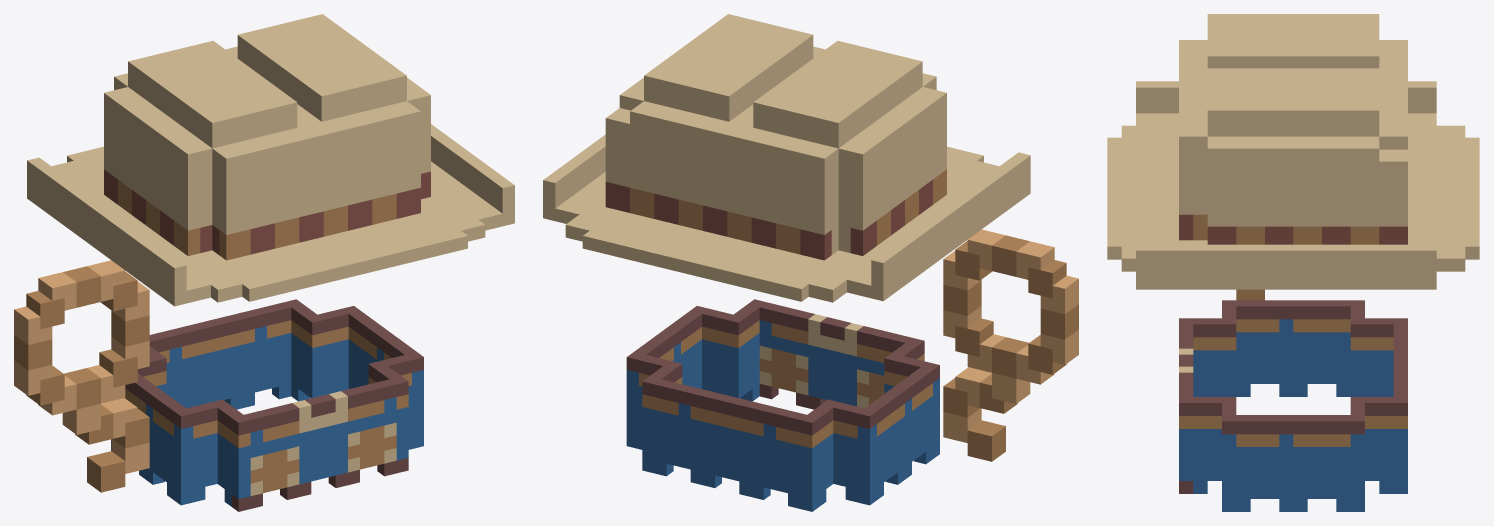
File: 64- wraangler.fbx
3 views of the same model, side by side, from view 1: azimuth 30°, elevation 25°; view 2: azimuth 150°, elevation 25°; view 3: azimuth 270°, elevation 25° (orthographic).
Parts seen in each view (by area): view 1: 228, 230, 229; view 2: 228, 230, 229; view 3: 228, 230.
Boxes of the visible parts, x1=… form: 228: x1=27, y1=14, x2=514, y2=306; 230: x1=111, y1=299, x2=423, y2=511; 229: x1=14, y1=260, x2=149, y2=492; 228: x1=543, y1=14, x2=1030, y2=302; 230: x1=626, y1=299, x2=939, y2=511; 229: x1=943, y1=229, x2=1078, y2=461; 228: x1=1107, y1=14, x2=1479, y2=289; 230: x1=1179, y1=300, x2=1407, y2=511.
Bounding box in the file's own units: 360 × 300 × 260.
3 materials, 3 textured.
